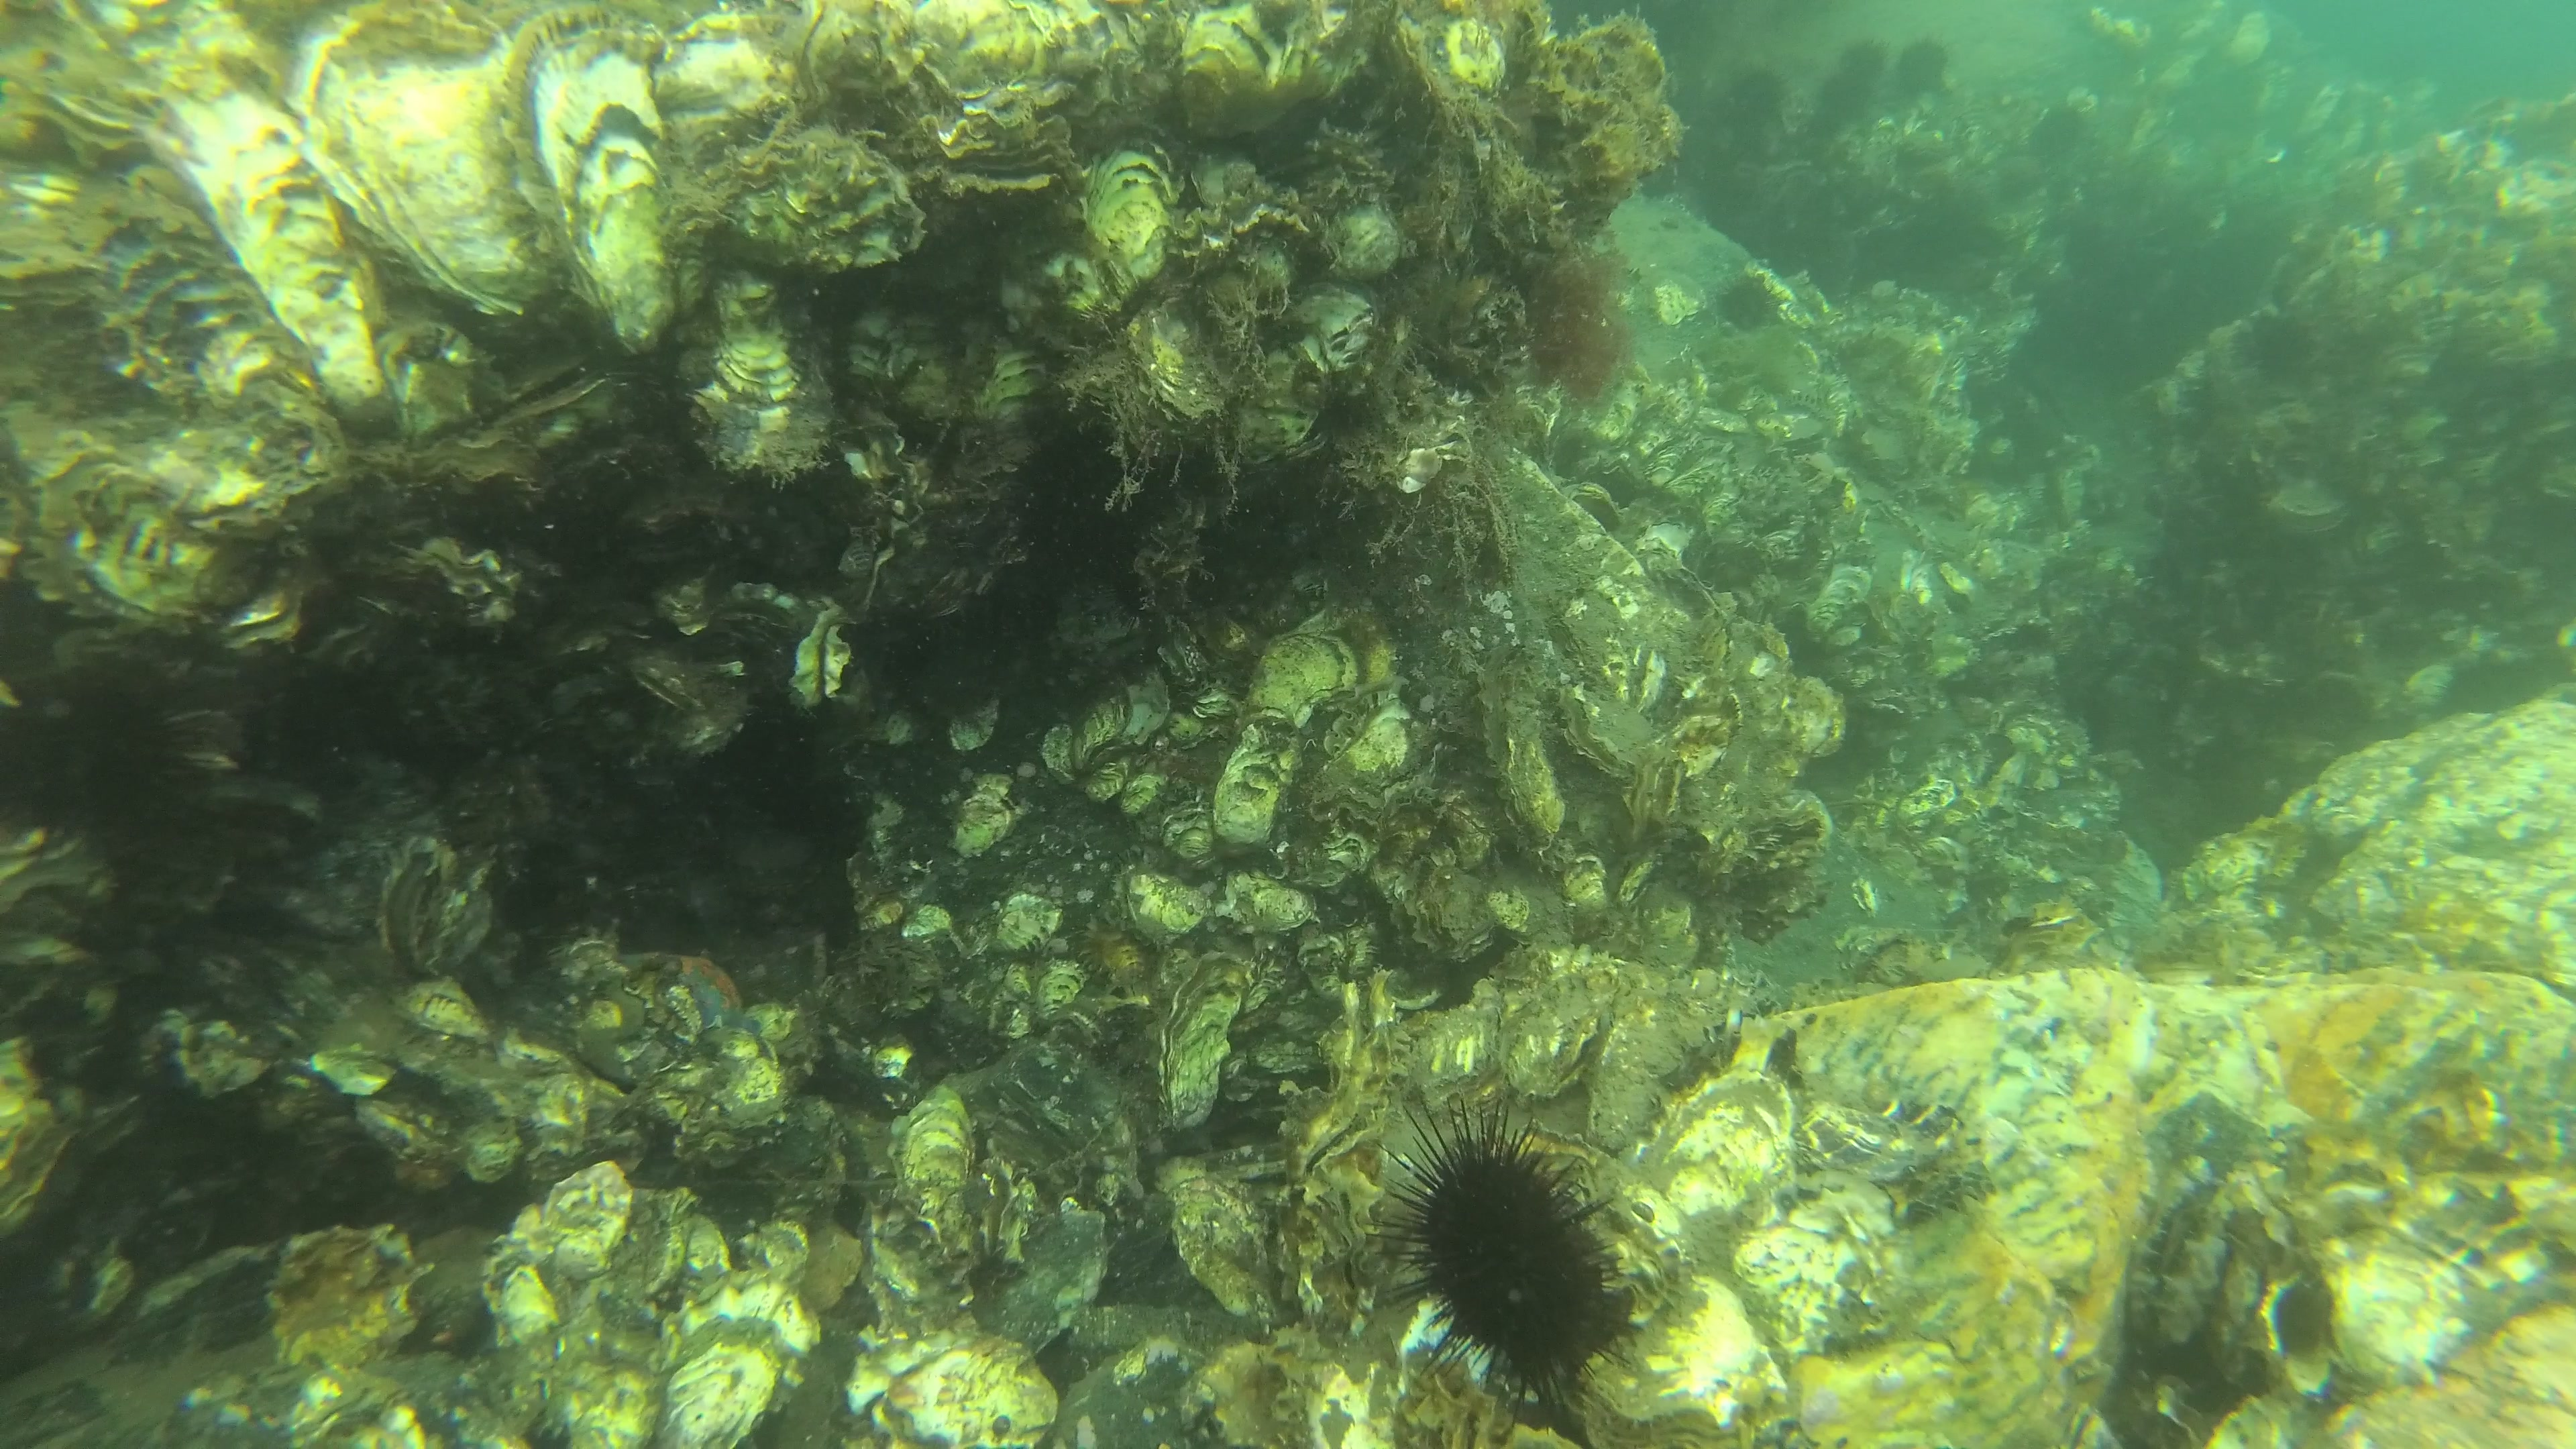echinus: (1366, 1097, 1651, 1415), (2242, 311, 2312, 373), (1729, 62, 1790, 122), (1713, 274, 1778, 331), (2029, 106, 2088, 165), (1838, 39, 1898, 81), (1824, 73, 1874, 113), (1904, 42, 1944, 88)
starfish: (678, 952, 750, 1035)
